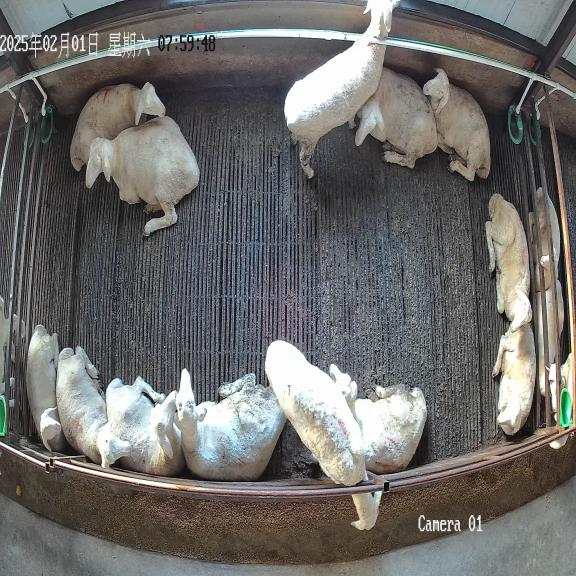eating: (265, 340, 379, 530)
lying: (86, 116, 200, 236), (176, 369, 286, 480), (329, 364, 427, 474), (56, 346, 130, 468), (70, 82, 165, 170), (355, 67, 437, 168), (106, 377, 185, 476), (423, 68, 490, 181), (486, 194, 532, 330), (27, 325, 68, 452), (492, 321, 536, 434)
stand: (284, 0, 398, 177)
